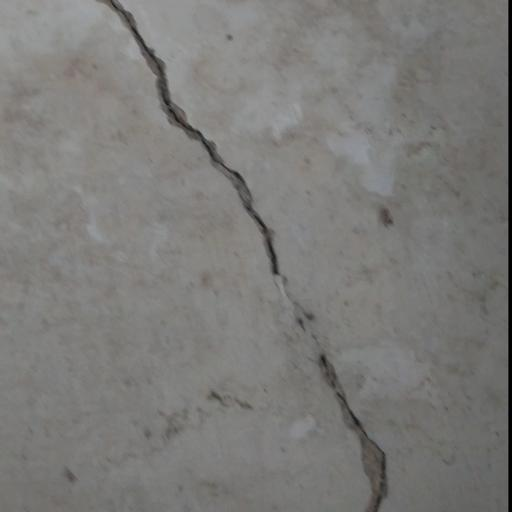major_crack: (94, 0, 391, 512)
